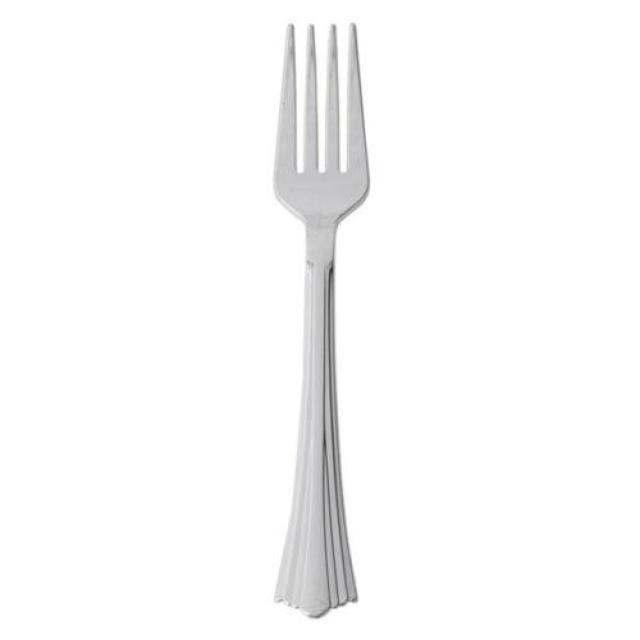spoon: (273, 22, 369, 616)
